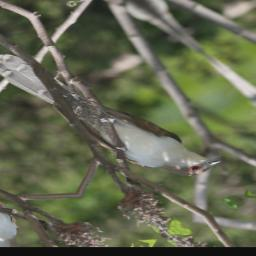Cuckoo: (0, 24, 233, 202)
